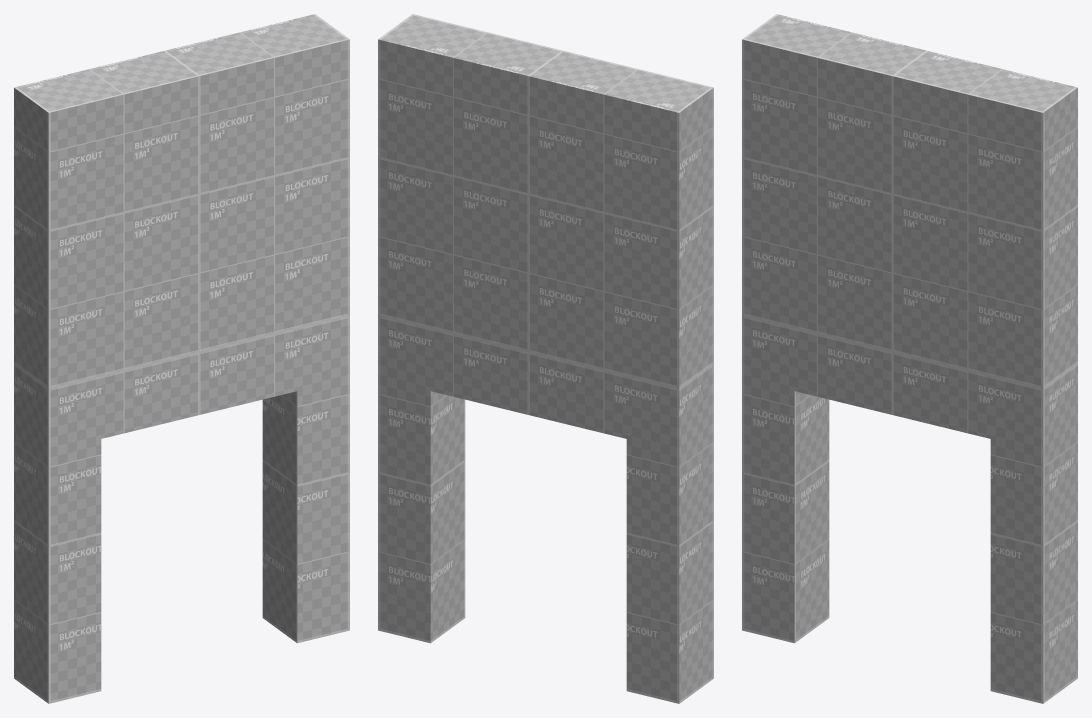
File: BlockoutThickWall04DoubleDoor.fbx
3 views of the same model, side by side, from view 1: azimuth 30°, elevation 25°; view 2: azimuth 150°, elevation 25°; view 3: azimuth 330°, elevation 25° (orthographic).
Parts seen in each view (by area): view 1: BlockoutThickWall04DoubleDoor; view 2: BlockoutThickWall04DoubleDoor; view 3: BlockoutThickWall04DoubleDoor.
Part boxes in pixels (box(x1,y1,x2,y2)): BlockoutThickWall04DoubleDoor: box(14, 14, 349, 703); BlockoutThickWall04DoubleDoor: box(378, 14, 713, 703); BlockoutThickWall04DoubleDoor: box(742, 14, 1077, 703).
Bounding box in the file's own units: 400 × 750 × 80.
